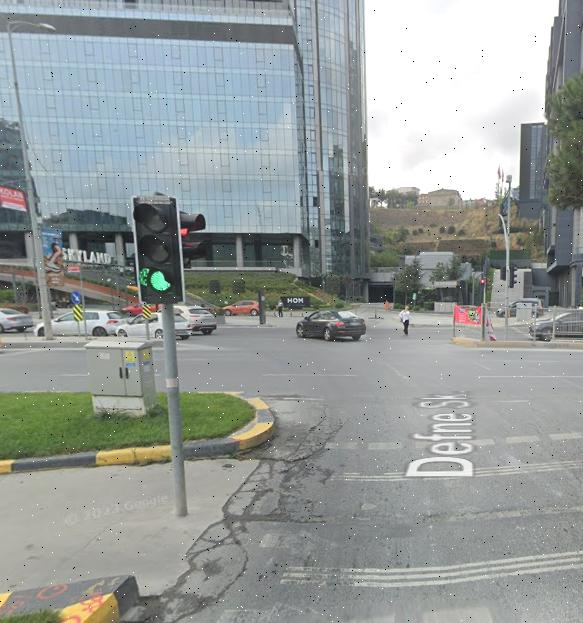greenlight: (132, 195, 183, 305)
redlight: (481, 276, 485, 285)
